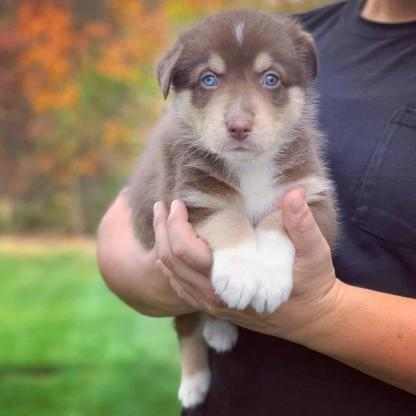dog: (132, 13, 334, 407)
